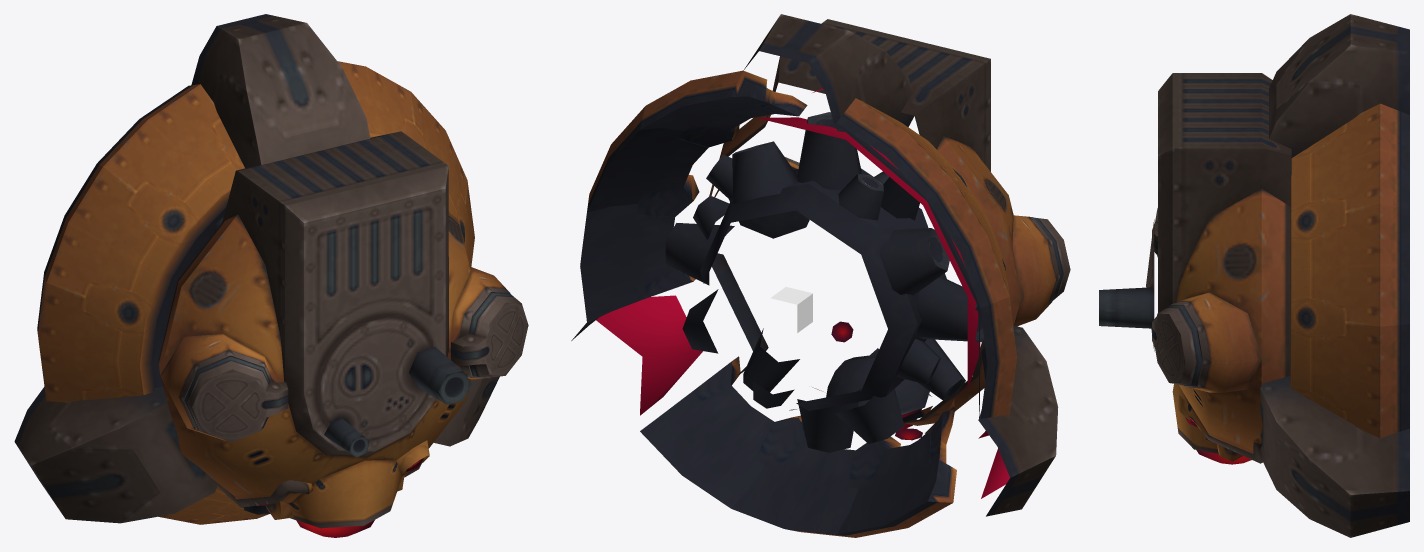
3 views of the same model, side by side, from view 1: azimuth 30°, elevation 25°; view 2: azimuth 150°, elevation 25°; view 3: azimuth 270°, elevation 25° (orthographic). The views are drawn at different scales.
Visible parts, largest first — view 1: blastcore.model-MeshNodes["mesh_head"], blastcore.model-MeshNodes["mesh_foot"], blastcore.model-MeshNodes["mesh_thigh"], blastcore.model-MeshNodes["mesh_plate_21"], blastcore.model-MeshNodes["mesh_plate_20"], blastcore.model-MeshNodes["mesh_base"], blastcore.model-MeshNodes["mesh_plate_22"], blastcore.model-MeshNodes["mesh_bolts"], blastcore.model-MeshNodes["mesh_lid_r"], blastcore.model-MeshNodes["mesh_lid_l"], blastcore.model-MeshNodes["mesh_plate_12"], blastcore.model-MeshNodes["mesh_plate_11"] (+2 smaller); view 2: blastcore.model-MeshNodes["mesh_guns"], blastcore.model-MeshNodes["mesh_head"], blastcore.model-MeshNodes["mesh_foot"], blastcore.model-MeshNodes["mesh_plate_02"], blastcore.model-MeshNodes["mesh_bolts"], blastcore.model-MeshNodes["mesh_plate_10"], blastcore.model-MeshNodes["mesh_plate_01"], blastcore.model-MeshNodes["mesh_plate_00"], blastcore.model-MeshNodes["mesh_thigh"], blastcore.model-MeshNodes["mesh_plate_11"], blastcore.model-MeshNodes["mesh_foot_in"], blastcore.model-MeshNodes["mesh_plate_12"] (+11 smaller); view 3: blastcore.model-MeshNodes["mesh_head"], blastcore.model-MeshNodes["mesh_foot"], blastcore.model-MeshNodes["mesh_thigh"], blastcore.model-MeshNodes["mesh_plate_11"], blastcore.model-MeshNodes["mesh_plate_10"], blastcore.model-MeshNodes["mesh_plate_12"], blastcore.model-MeshNodes["mesh_bolts"], blastcore.model-MeshNodes["mesh_base"], blastcore.model-MeshNodes["mesh_lid_l"].
Boxes of the visible parts, <box> form: blastcore.model-MeshNodes["mesh_head"]: <box>158,131,510,528</box>; blastcore.model-MeshNodes["mesh_foot"]: <box>14,14,499,523</box>; blastcore.model-MeshNodes["mesh_thigh"]: <box>49,68,482,523</box>; blastcore.model-MeshNodes["mesh_plate_21"]: <box>44,163,158,297</box>; blastcore.model-MeshNodes["mesh_plate_20"]: <box>97,84,231,202</box>; blastcore.model-MeshNodes["mesh_base"]: <box>118,135,466,503</box>; blastcore.model-MeshNodes["mesh_plate_22"]: <box>37,272,121,402</box>; blastcore.model-MeshNodes["mesh_bolts"]: <box>83,119,467,515</box>; blastcore.model-MeshNodes["mesh_lid_r"]: <box>184,356,288,442</box>; blastcore.model-MeshNodes["mesh_lid_l"]: <box>451,292,528,377</box>; blastcore.model-MeshNodes["mesh_plate_12"]: <box>337,61,414,136</box>; blastcore.model-MeshNodes["mesh_plate_11"]: <box>411,92,467,212</box>; blastcore.model-MeshNodes["mesh_guns"]: <box>665,112,983,452</box>; blastcore.model-MeshNodes["mesh_head"]: <box>709,19,1059,439</box>; blastcore.model-MeshNodes["mesh_foot"]: <box>571,14,1058,516</box>; blastcore.model-MeshNodes["mesh_plate_02"]: <box>640,385,774,508</box>; blastcore.model-MeshNodes["mesh_bolts"]: <box>637,101,1007,488</box>; blastcore.model-MeshNodes["mesh_plate_10"]: <box>580,200,674,322</box>; blastcore.model-MeshNodes["mesh_plate_01"]: <box>731,438,858,537</box>; blastcore.model-MeshNodes["mesh_plate_00"]: <box>836,433,956,537</box>; blastcore.model-MeshNodes["mesh_thigh"]: <box>712,50,1057,423</box>; blastcore.model-MeshNodes["mesh_plate_11"]: <box>587,106,708,212</box>; blastcore.model-MeshNodes["mesh_foot_in"]: <box>596,88,988,438</box>; blastcore.model-MeshNodes["mesh_plate_12"]: <box>640,70,774,130</box>; blastcore.model-MeshNodes["mesh_head"]: <box>1099,73,1291,463</box>; blastcore.model-MeshNodes["mesh_foot"]: <box>1276,14,1409,537</box>; blastcore.model-MeshNodes["mesh_thigh"]: <box>1260,39,1359,518</box>; blastcore.model-MeshNodes["mesh_plate_11"]: <box>1310,204,1409,326</box>; blastcore.model-MeshNodes["mesh_plate_10"]: <box>1310,322,1409,437</box>; blastcore.model-MeshNodes["mesh_plate_12"]: <box>1310,103,1409,211</box>; blastcore.model-MeshNodes["mesh_bolts"]: <box>1290,124,1344,419</box>; blastcore.model-MeshNodes["mesh_base"]: <box>1290,153,1409,428</box>; blastcore.model-MeshNodes["mesh_lid_l"]: <box>1152,305,1202,385</box>.
Bounding box in the file's own units: 4.43 × 4.38 × 2.62.
Materials: 4 (3 with a texture image).
